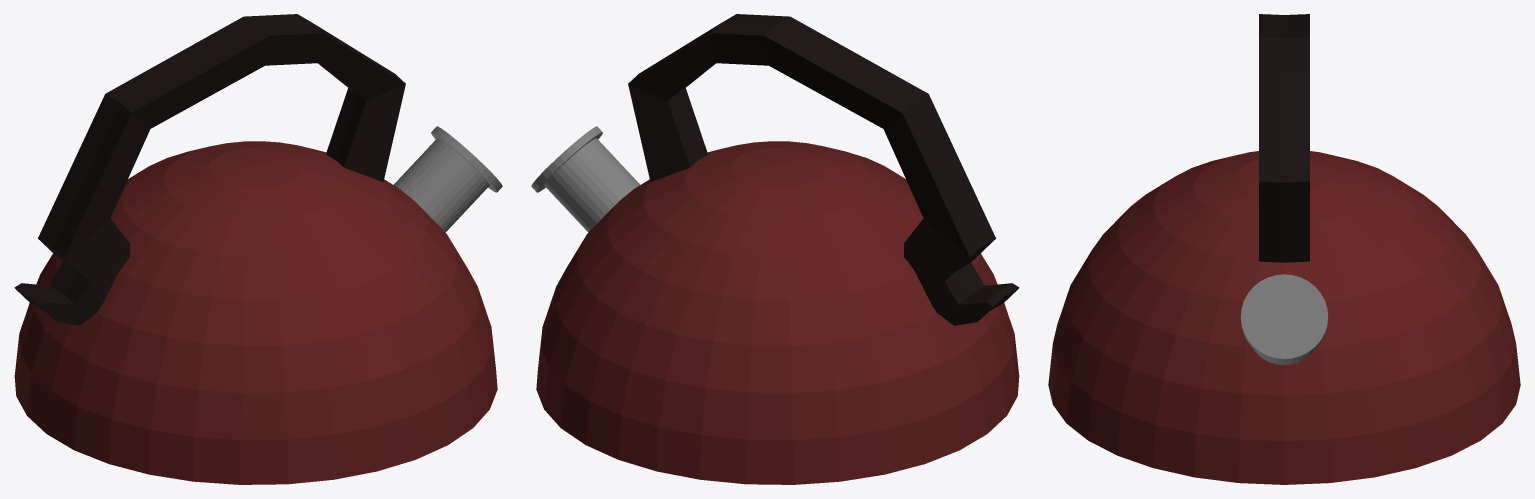
Rendered from Kettle_Onai.glb.
The picture shows the model from 3 angles, left to right: view 1: azimuth 30°, elevation 25°; view 2: azimuth 150°, elevation 25°; view 3: azimuth 270°, elevation 25°; orthographic projection. The views are drawn at different scales.
Parts seen in each view (by area): view 1: Sphere; view 2: Sphere; view 3: Sphere.
Part boxes in pixels (box(x1,y1,x2,y2)): Sphere: box(14, 14, 502, 484); Sphere: box(531, 14, 1019, 484); Sphere: box(1048, 14, 1520, 484).
Size of the model in its own units: 2.23 by 1.63 by 2.
3 materials, 3 textured.
